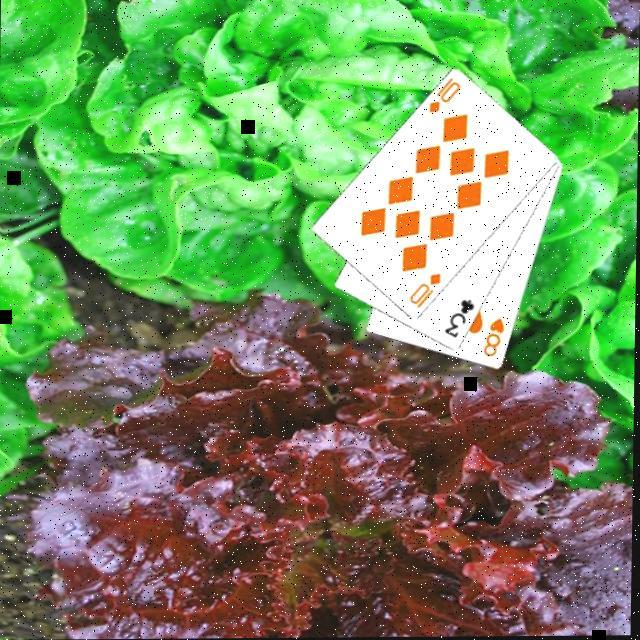10D: (426, 74, 464, 116), (408, 270, 446, 311)
3C: (443, 296, 480, 341)
8H: (482, 314, 509, 360)
